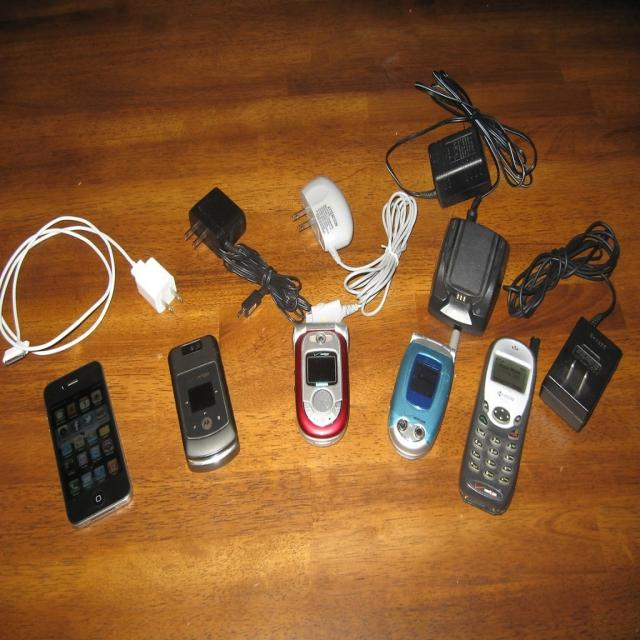Cable: (0, 188, 174, 351), (417, 64, 557, 158), (515, 204, 624, 311), (344, 205, 428, 312), (225, 238, 307, 322)
E-waste: (387, 312, 627, 509), (23, 366, 153, 553), (410, 148, 522, 317), (166, 330, 242, 511), (293, 308, 355, 454), (185, 172, 259, 252)
